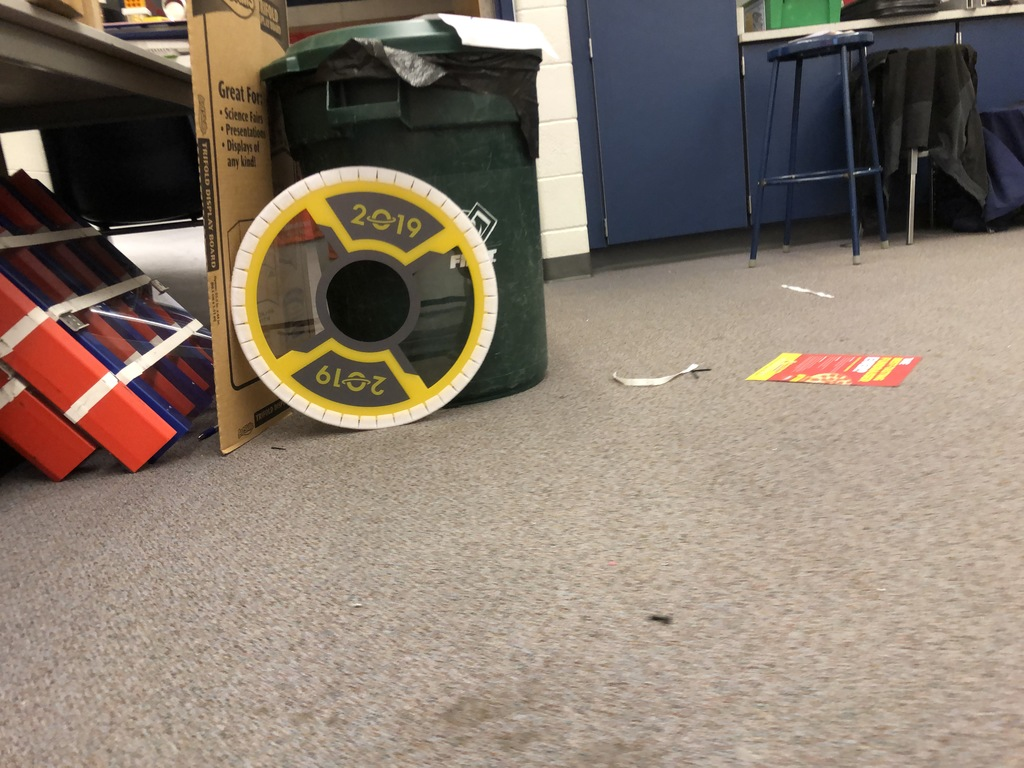hatch_panel: (226, 152, 515, 454)
